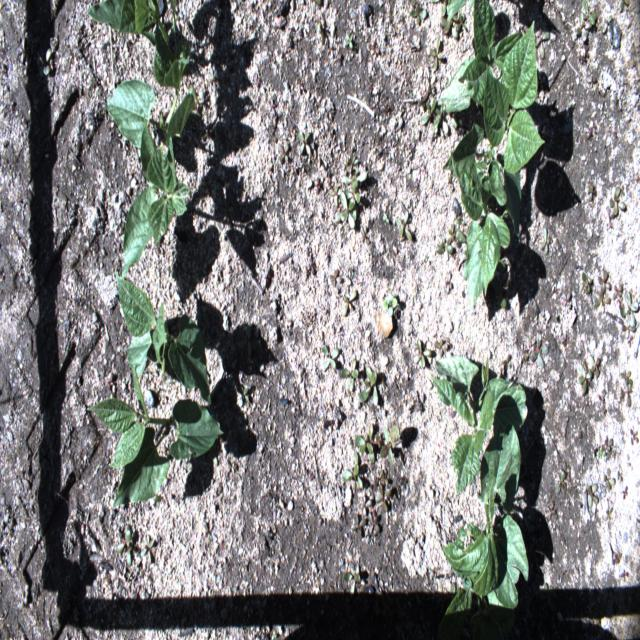crop: (88, 362, 225, 507), (442, 422, 529, 608), (430, 354, 528, 496), (115, 270, 212, 405), (122, 118, 192, 279), (104, 27, 196, 149), (451, 150, 510, 315), (438, 0, 522, 115), (483, 21, 545, 174), (443, 124, 521, 234), (86, 0, 178, 47), (469, 590, 515, 639), (437, 582, 472, 639), (447, 0, 467, 23), (468, 0, 475, 11)
weed: (354, 425, 385, 463), (378, 424, 399, 470), (341, 451, 363, 492), (530, 330, 550, 372), (115, 522, 132, 568), (358, 367, 378, 405), (620, 288, 638, 329), (339, 358, 358, 393), (340, 190, 356, 230), (412, 339, 433, 369), (321, 343, 342, 372), (396, 210, 414, 242), (434, 101, 449, 137), (574, 12, 592, 42), (139, 534, 156, 565), (365, 365, 378, 405), (534, 27, 550, 59), (343, 168, 368, 188), (610, 186, 626, 217), (374, 484, 390, 514), (343, 176, 360, 204), (577, 363, 592, 394), (342, 289, 358, 318), (430, 35, 442, 72), (358, 493, 373, 522), (421, 97, 436, 126), (240, 322, 252, 358), (580, 0, 597, 25), (38, 49, 54, 75), (350, 514, 366, 540), (409, 2, 427, 25), (343, 572, 360, 596), (298, 126, 312, 155), (619, 378, 633, 407), (593, 290, 611, 312), (329, 181, 343, 209), (384, 290, 399, 316), (538, 227, 552, 254), (436, 240, 453, 262), (621, 316, 637, 338), (555, 468, 567, 497), (434, 337, 449, 359), (544, 498, 557, 523), (368, 509, 380, 535), (587, 482, 599, 508), (238, 383, 250, 408), (453, 13, 468, 33), (597, 271, 610, 294), (15, 36, 26, 63), (335, 210, 357, 223), (588, 354, 600, 377), (330, 267, 343, 288), (278, 142, 290, 164), (346, 152, 358, 174), (580, 271, 592, 293), (604, 468, 616, 490), (440, 13, 452, 34), (374, 469, 388, 487), (449, 111, 462, 130), (316, 20, 326, 44), (588, 617, 600, 636), (601, 439, 614, 456), (619, 371, 633, 386), (602, 500, 612, 521), (586, 183, 597, 202), (561, 291, 572, 309), (602, 15, 612, 34), (596, 389, 606, 408), (496, 292, 507, 309), (455, 229, 468, 243), (563, 460, 571, 482), (441, 0, 450, 18), (461, 261, 469, 281), (630, 428, 640, 443), (454, 216, 466, 228), (611, 552, 622, 565), (345, 32, 353, 49), (446, 272, 452, 294), (448, 224, 454, 246), (613, 284, 621, 300), (496, 258, 505, 272), (587, 74, 596, 88), (311, 0, 320, 12), (619, 0, 628, 12), (314, 176, 320, 194), (621, 485, 628, 500), (430, 74, 436, 90), (621, 568, 628, 581), (597, 449, 606, 459), (617, 470, 623, 482), (431, 0, 440, 3)
